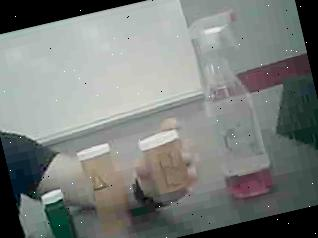Bottle A: (74, 139, 139, 238)
Bottle B: (135, 124, 203, 204)
Bottle C: (36, 183, 84, 238)
hazard: (181, 0, 289, 212)
